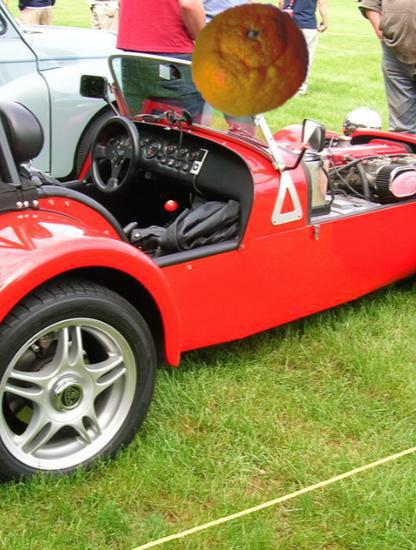Mandarine: (190, 0, 311, 121)
